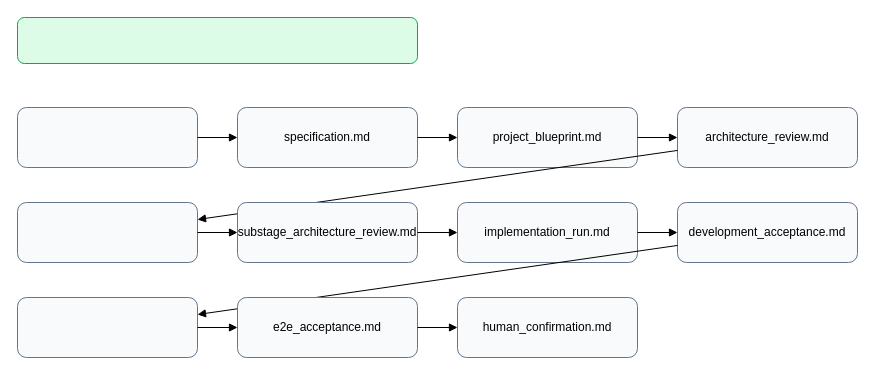
This 875x375 diagram has some shape labels left out. The centre of each missing label's shape, as x and y in pixels:
"code_review.md" goes at [107,327].
"product_plan.md" goes at [107,137].
"substage_plan_audit.md" goes at [107,232].
"V4.5 Engineering Artifact Lineage" goes at [217,40].
